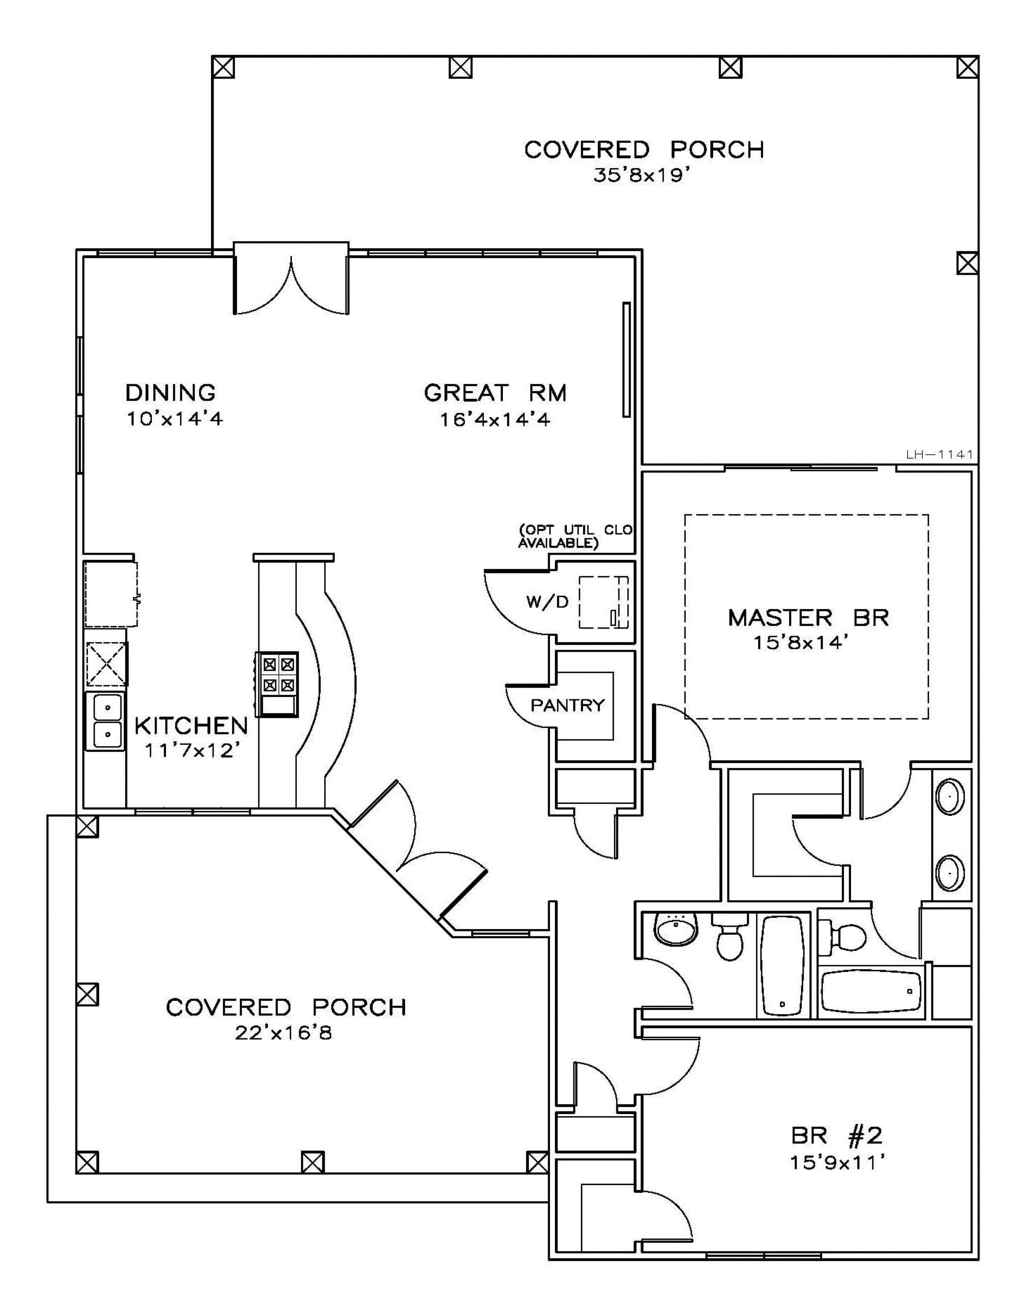door: (349, 781, 503, 925), (227, 241, 353, 327), (483, 561, 557, 653), (623, 955, 697, 1031), (639, 699, 725, 761), (791, 809, 849, 877), (639, 1183, 699, 1247), (853, 759, 913, 819), (505, 679, 567, 731), (566, 801, 619, 861), (573, 1065, 630, 1121), (875, 903, 929, 955)
kitchen_bar: (246, 553, 355, 811)
large_sink: (822, 911, 877, 967), (713, 913, 753, 973)
small_sink: (643, 905, 707, 961), (929, 843, 975, 903), (937, 767, 977, 817)
tub: (755, 913, 813, 1025), (819, 969, 919, 1019)
twin_sink: (87, 679, 138, 775)
